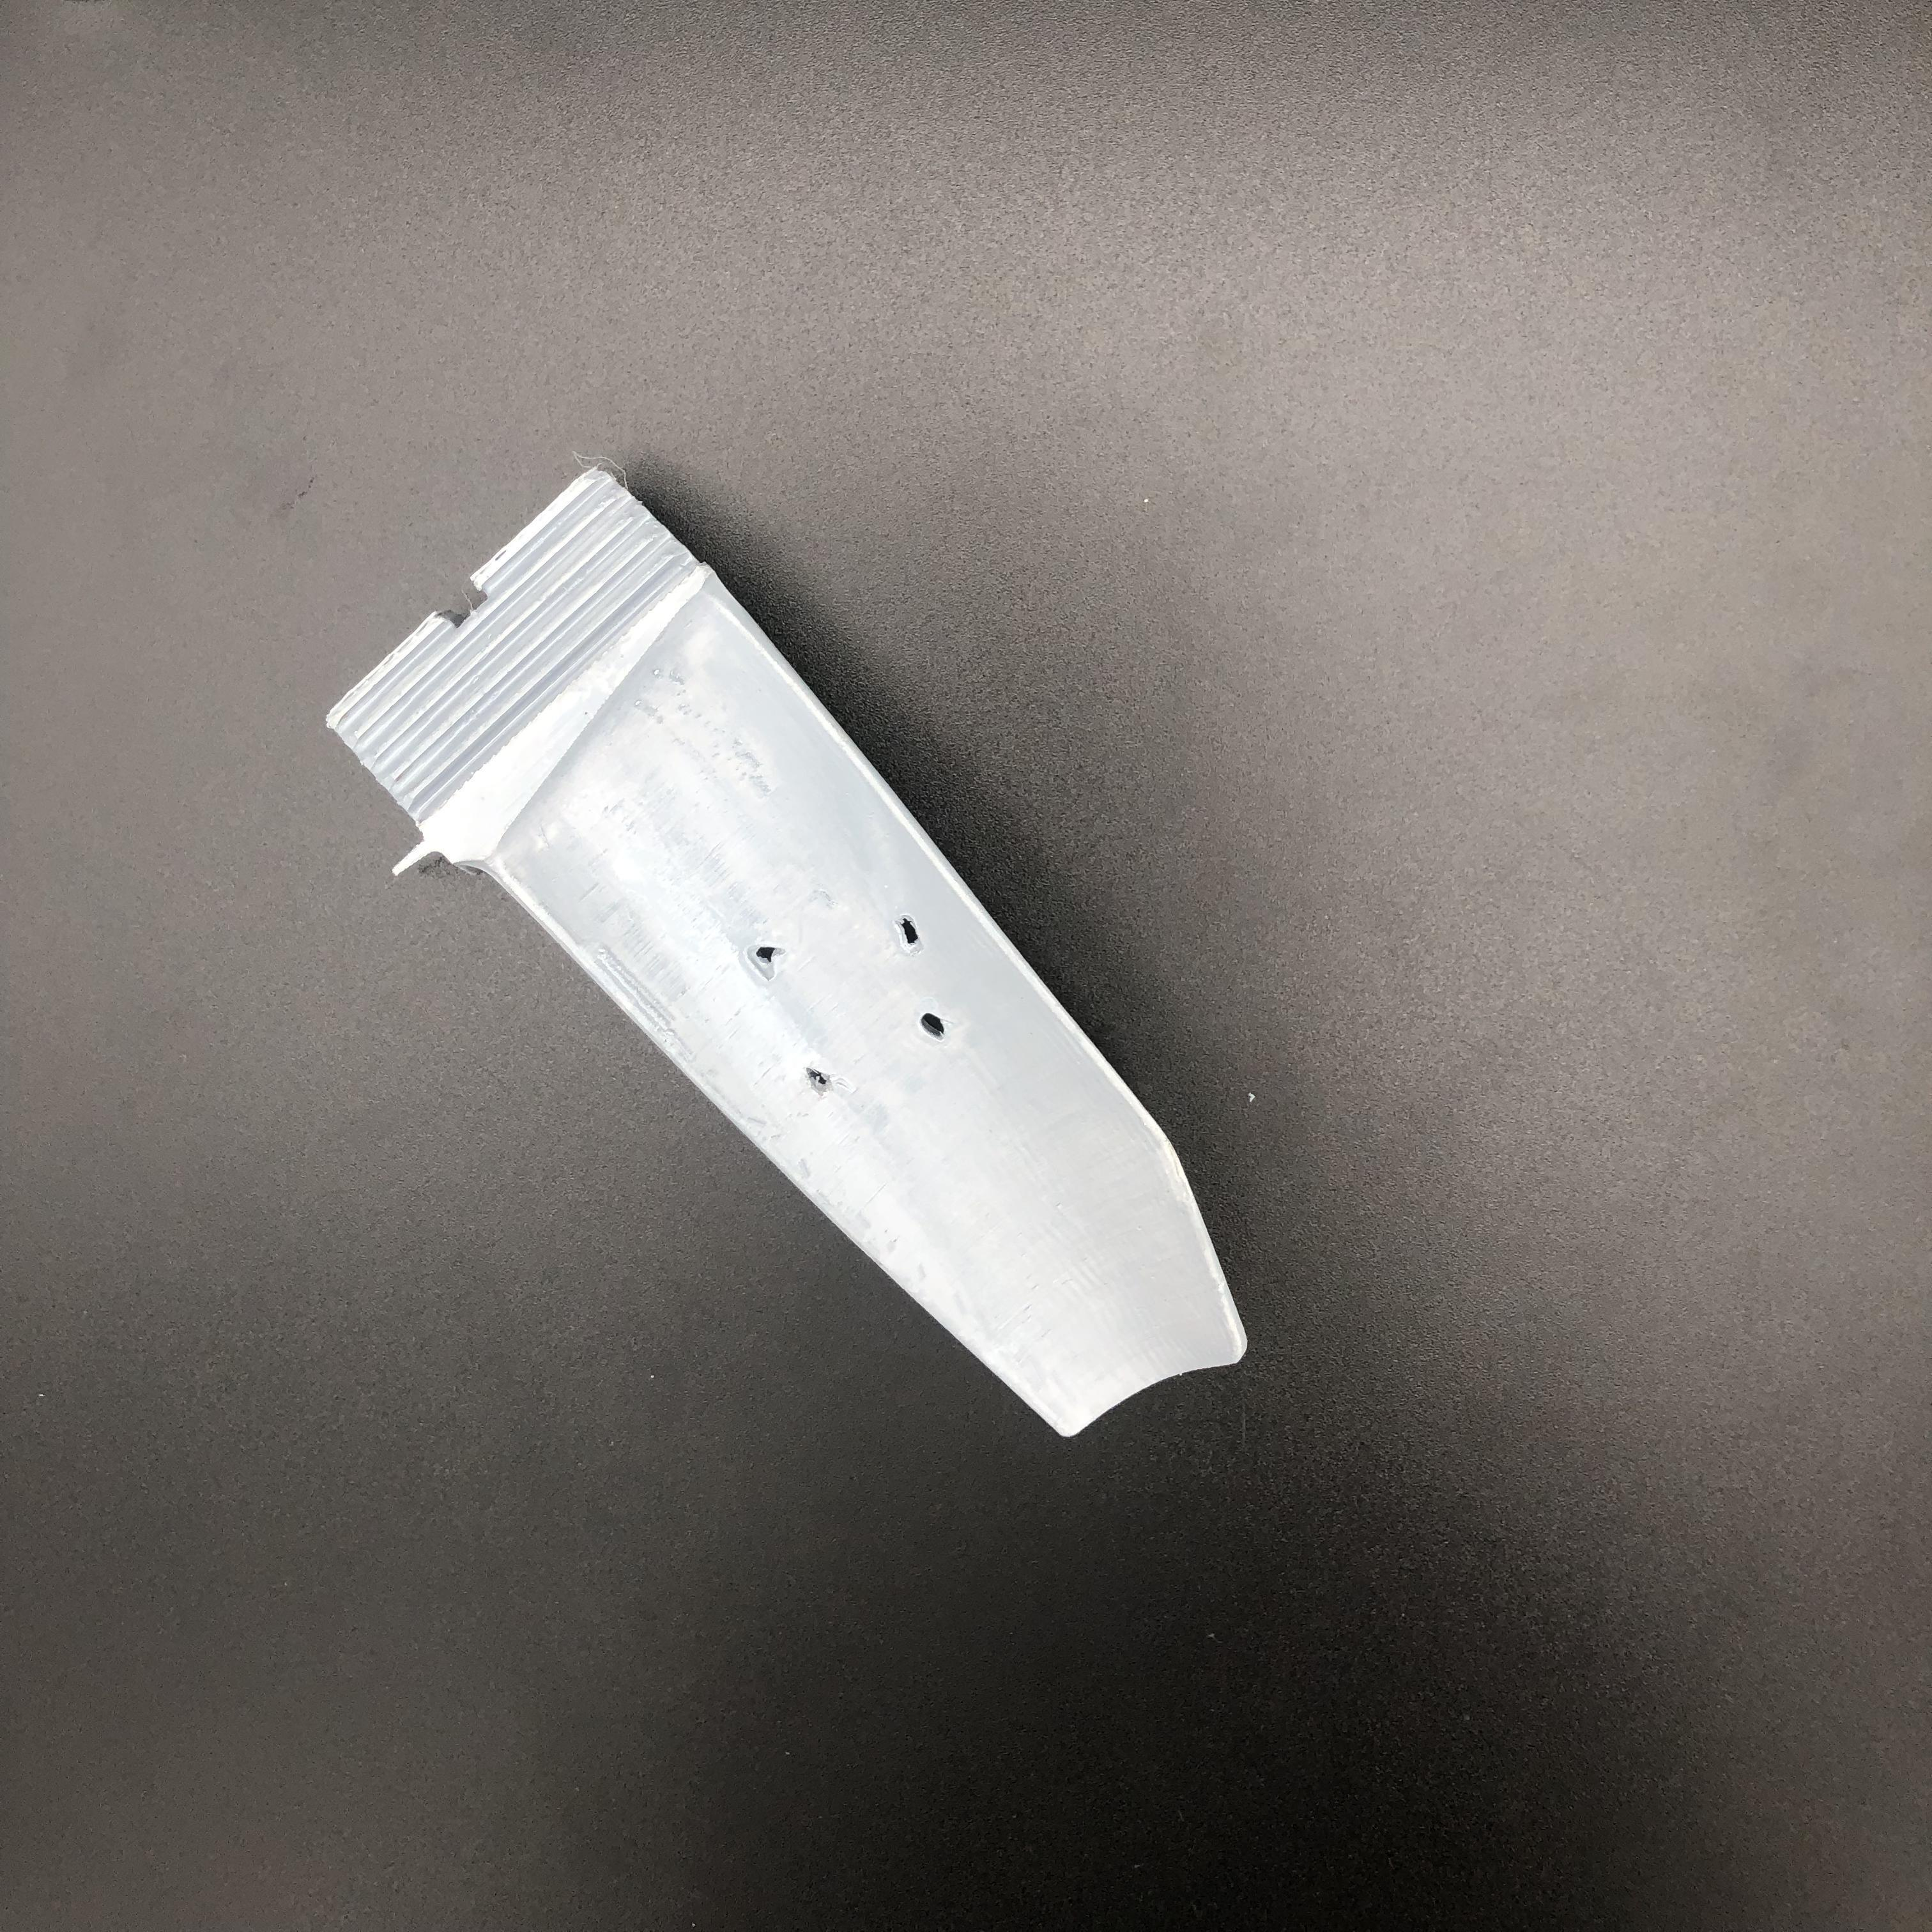breakdown: (745, 918, 948, 1092)
